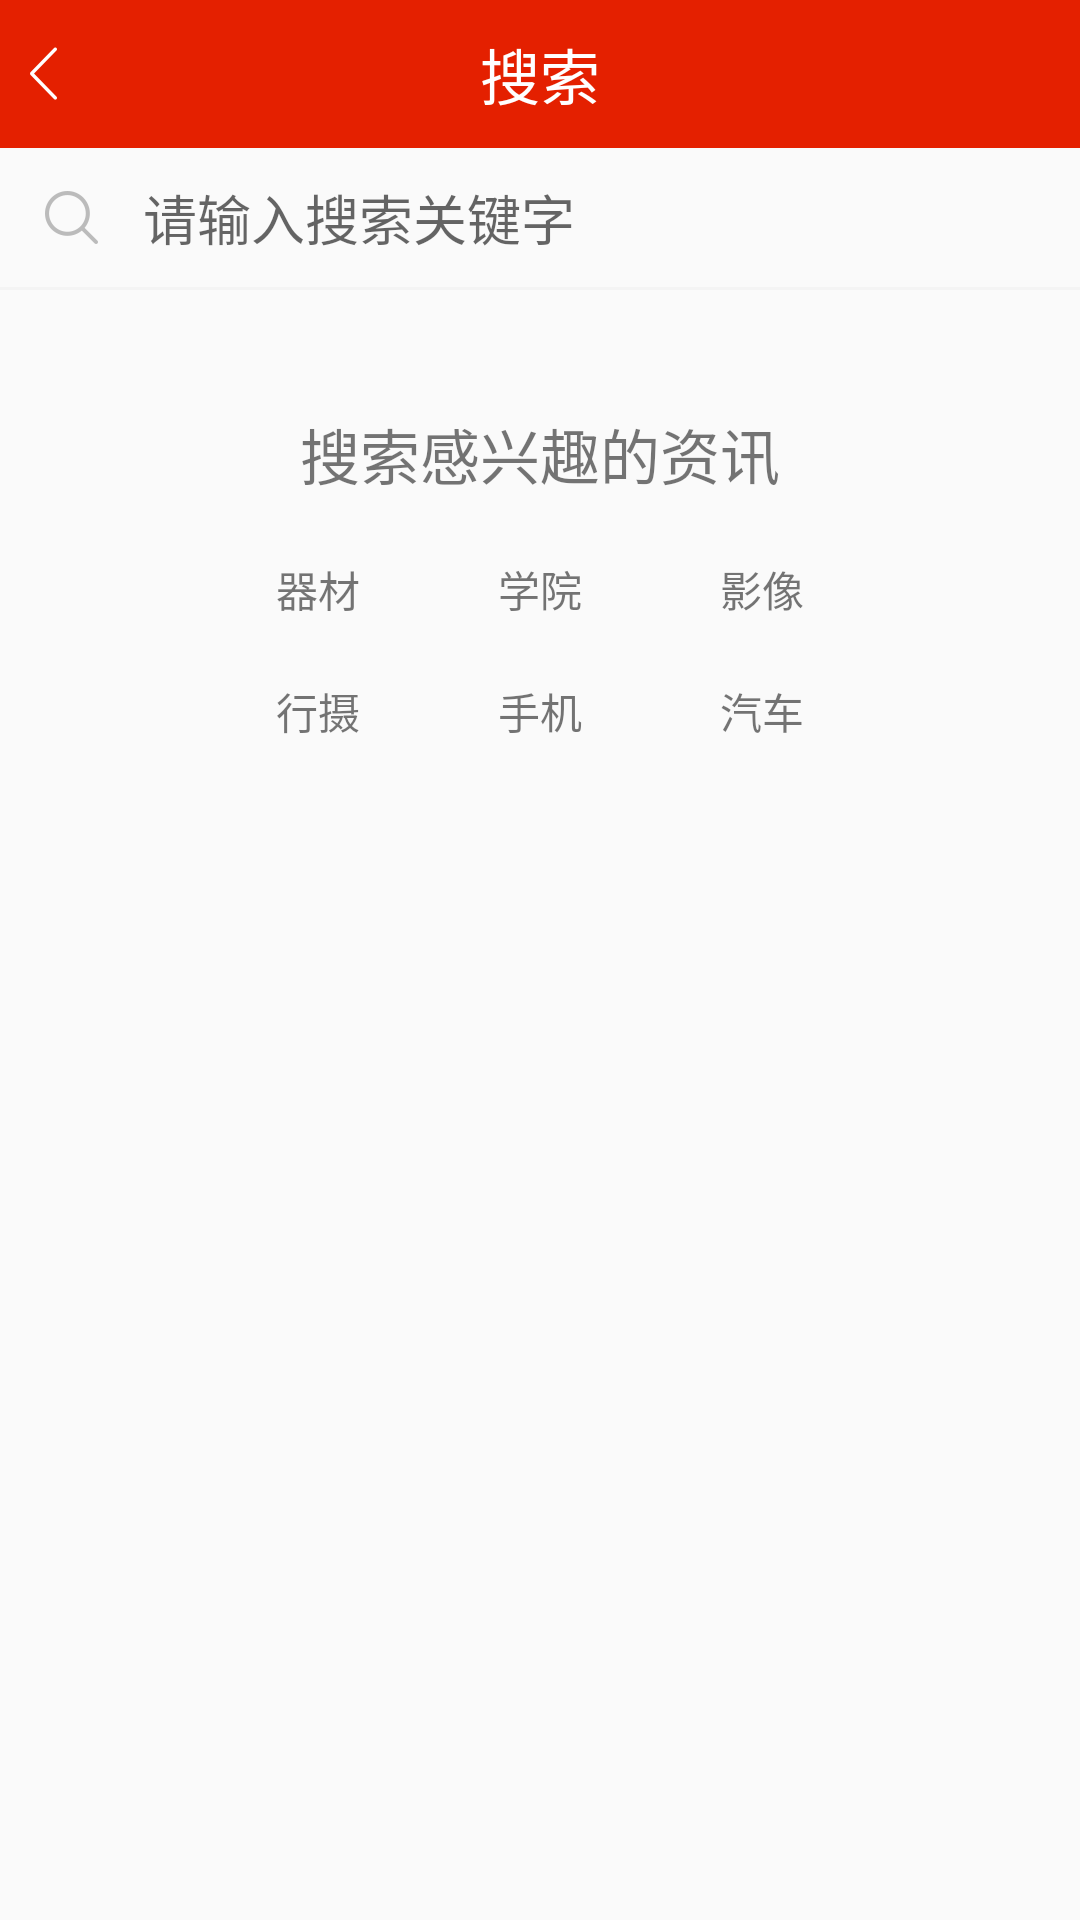

Icons on this 1080px x 1920px Android screen, each with its box as Rect(x1, y1, x2, y2):
back: Rect(30, 47, 57, 100)
search: Rect(45, 191, 98, 244)
